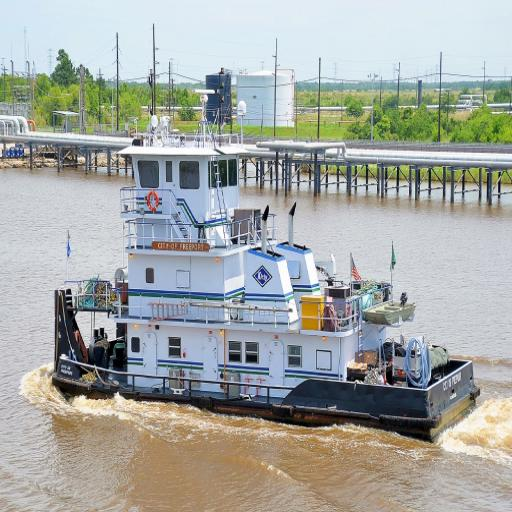tugboat: (44, 85, 485, 459)
